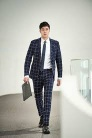male: (38, 21, 52, 38)
